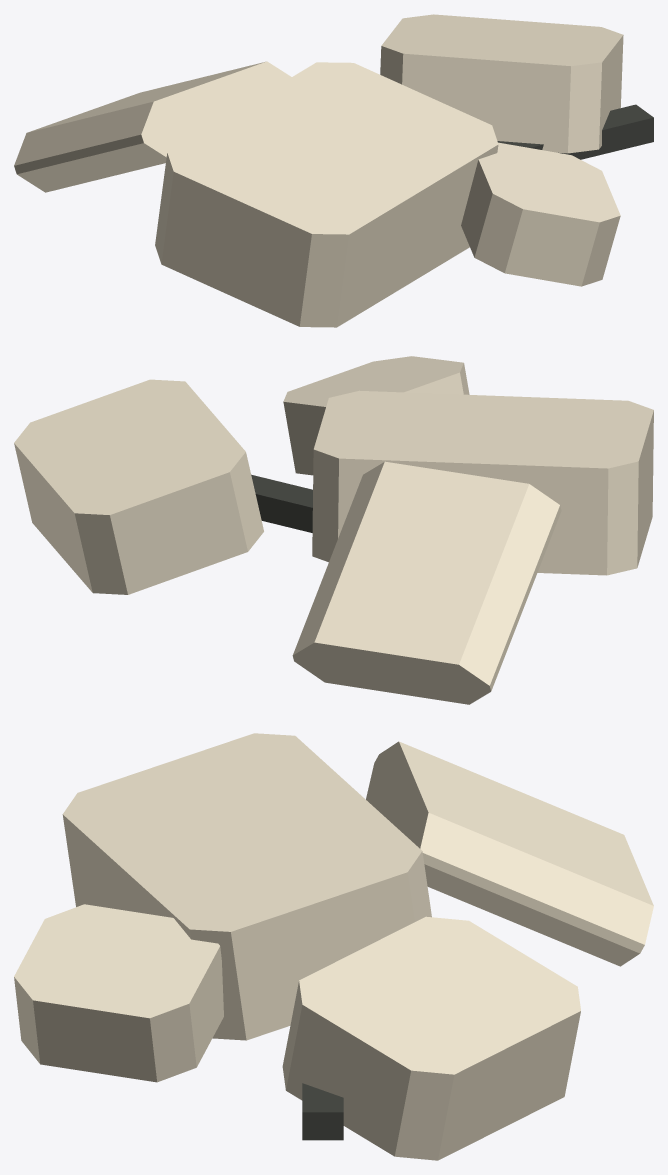
Rendered from b1_debris.glb.
The picture shows the model from 3 angles, top to bottom: view 1: azimuth 30°, elevation 25°; view 2: azimuth 150°, elevation 25°; view 3: azimuth 270°, elevation 25°; orthographic projection. The views are drawn at different scales.
Parts seen in each view (by area): view 1: b1_debris; view 2: b1_debris; view 3: b1_debris.
Boxes of the visible parts, x1,y1,x2,y2 form: b1_debris: (14,14,653,327); b1_debris: (14,356,653,704); b1_debris: (14,733,653,1160).
Size of the model in its own units: 1.35 by 0.3583 by 1.23.
